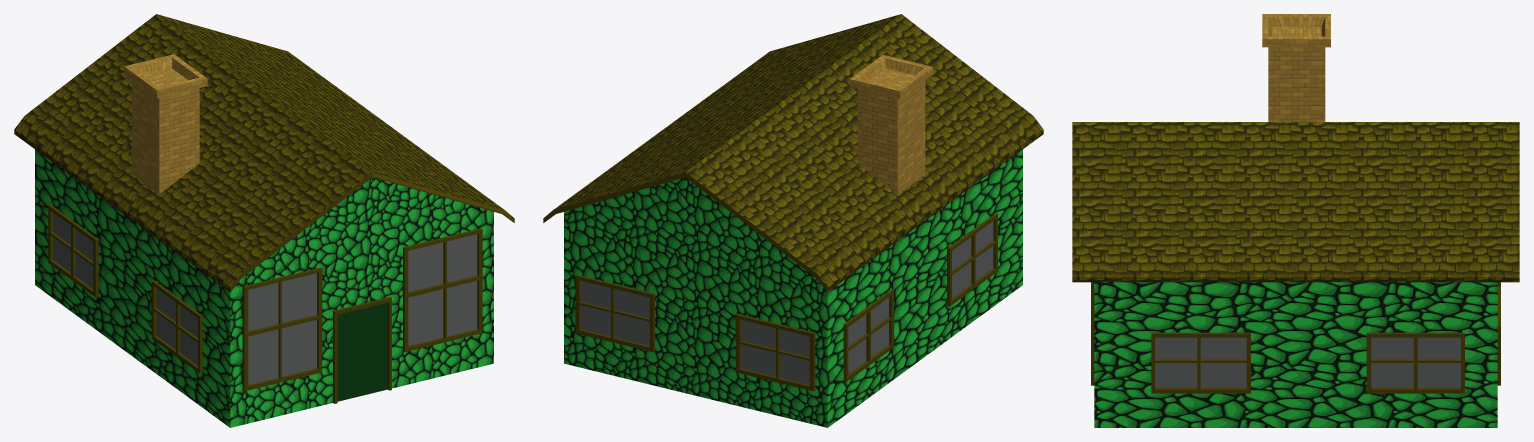
The model's file is House05.fbx.
The picture shows the model from 3 angles, left to right: view 1: azimuth 30°, elevation 25°; view 2: azimuth 150°, elevation 25°; view 3: azimuth 270°, elevation 25°; orthographic projection. The views are drawn at different scales.
Parts seen in each view (by area): view 1: polySurface4, House05_Roof, House05_Chimney; view 2: polySurface4, House05_Roof, House05_Chimney; view 3: House05_Roof, polySurface4, House05_Chimney.
Part boxes in pixels (x1,y1,x2,y2): polySurface4: (35,149,493,427); House05_Roof: (14,14,514,292); House05_Chimney: (124,54,207,193); polySurface4: (564,149,1022,427); House05_Roof: (543,14,1043,292); House05_Chimney: (849,55,932,194); House05_Roof: (1072,122,1519,282); polySurface4: (1091,282,1500,427); House05_Chimney: (1262,14,1330,121).
Size of the model in its own units: 155 by 143 by 204.
6 materials, 3 textured.
